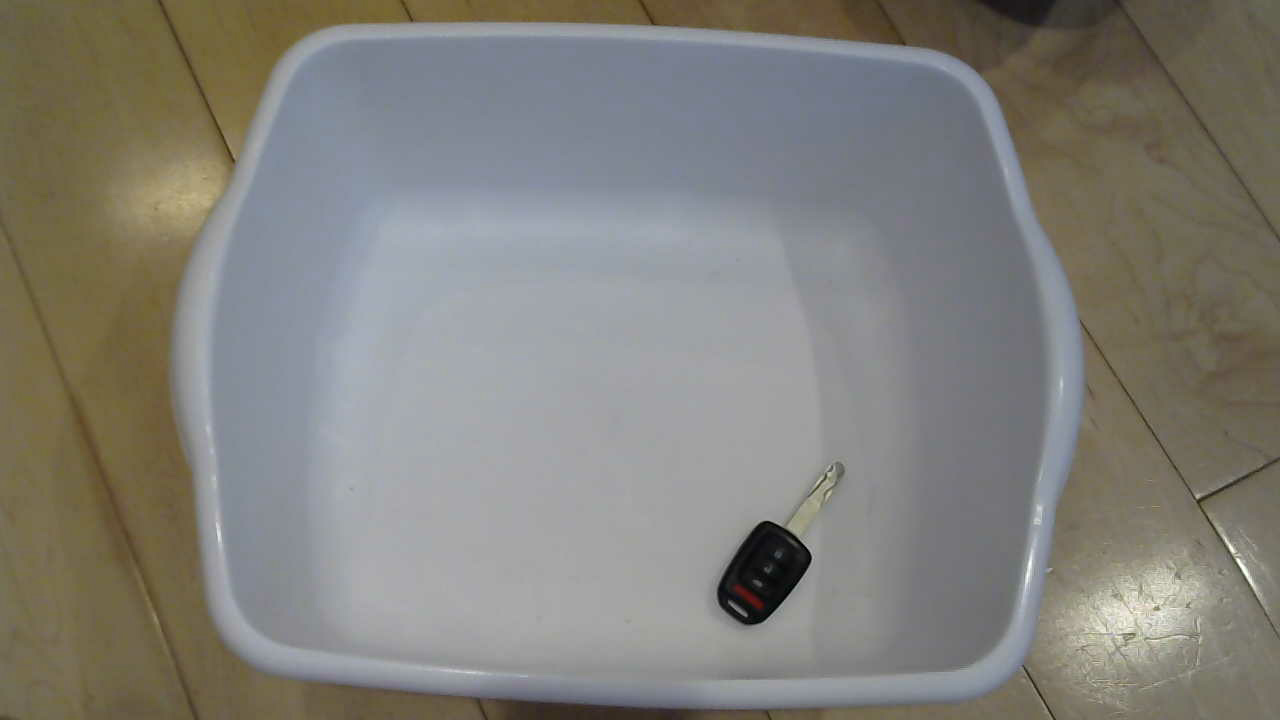key: (705, 464, 859, 631)
